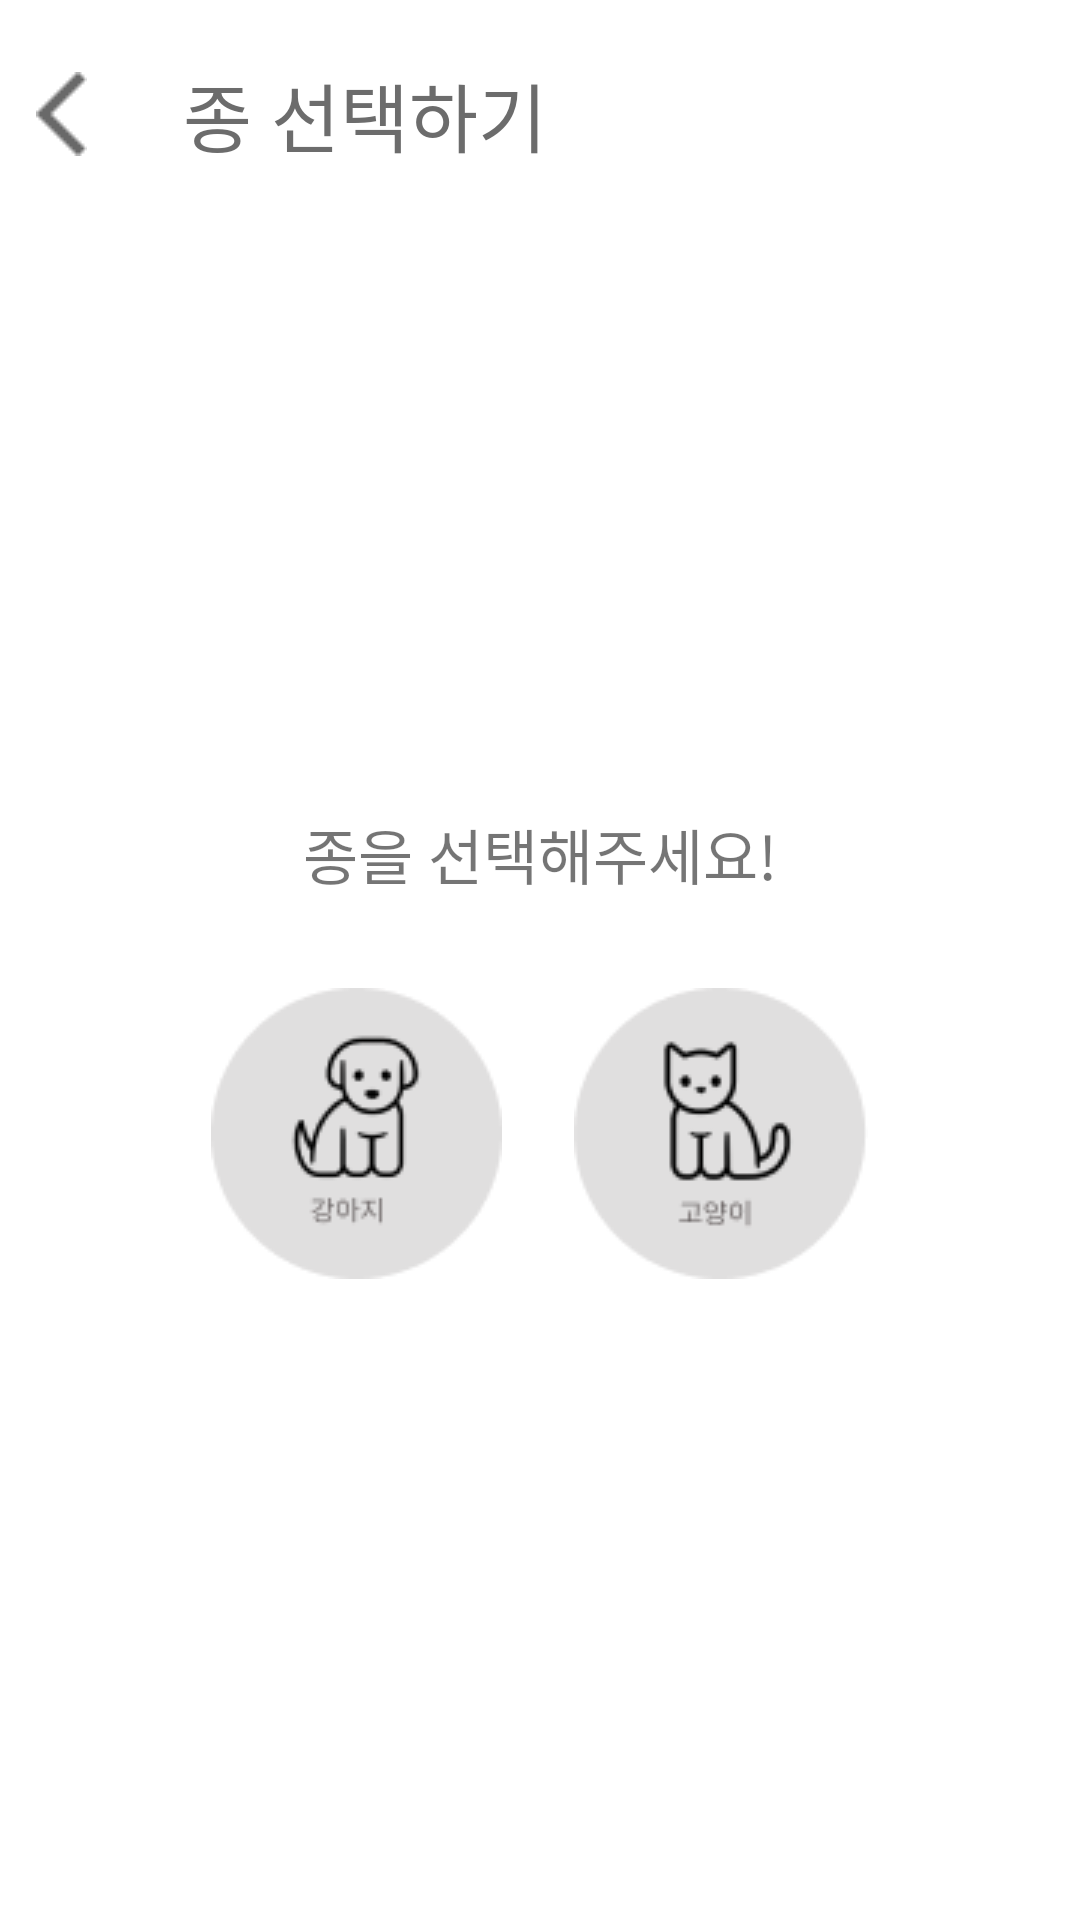

Where icons sit on this 1080x1920 app screen, as (x1=x1, y1=y1, x2=x2, y2=y2):
back: (x1=36, y1=72, x2=87, y2=156)
